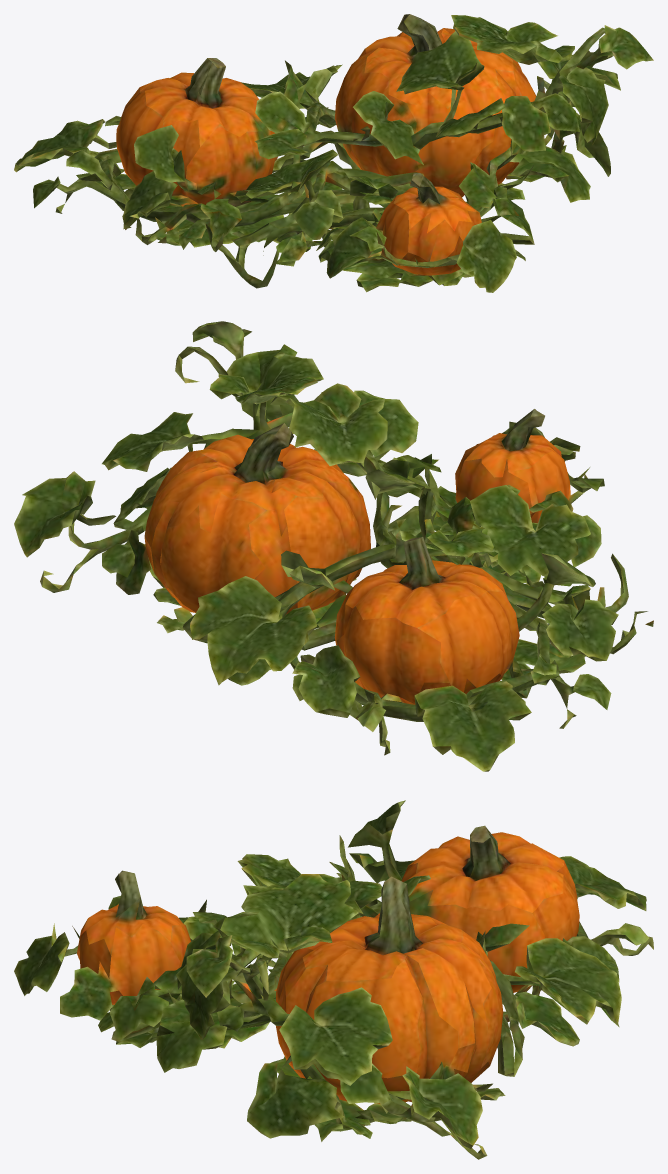
File: crop_pumpkin_lite.glb
3 views of the same model, one above another, from view 1: azimuth 30°, elevation 25°; view 2: azimuth 150°, elevation 25°; view 3: azimuth 270°, elevation 25° (orthographic). The views are drawn at different scales.
Visible parts, largest first — view 1: geometry_0; view 2: geometry_0; view 3: geometry_0.
Boxes of the visible parts, x1,y1,x2,y2 form: geometry_0: (14, 14, 653, 292); geometry_0: (14, 321, 653, 771); geometry_0: (14, 800, 653, 1159).
Bounding box in the file's own units: 1.89 × 0.5931 × 1.67.
Materials: 1 (1 with a texture image).
